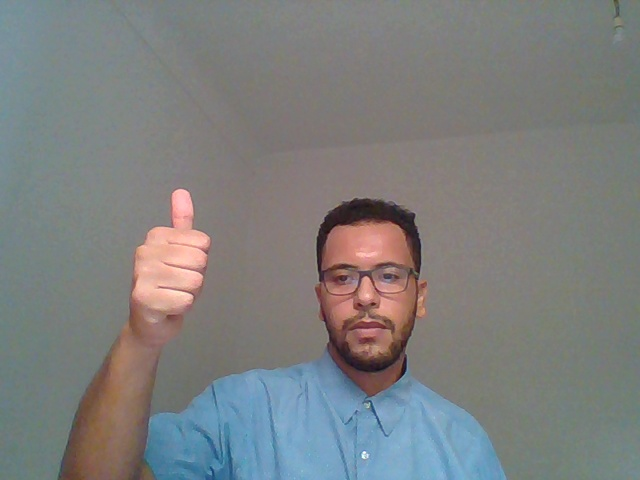ok: (89, 135, 228, 436)
